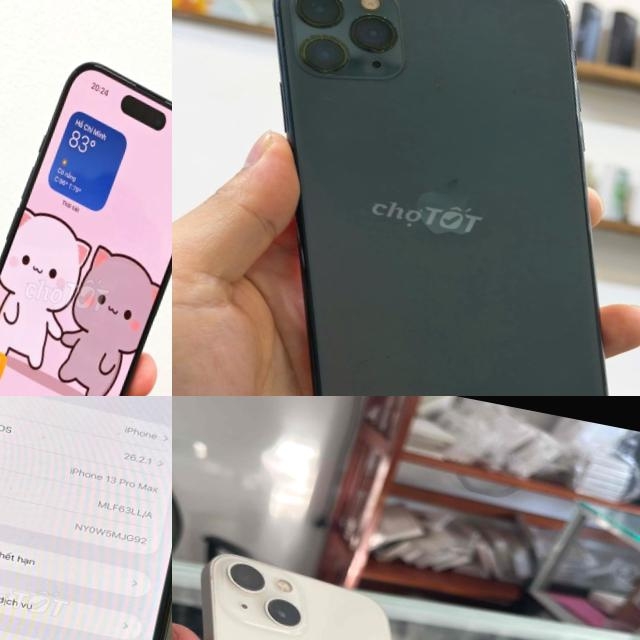scratch: (300, 27, 352, 52), (420, 73, 454, 105), (554, 66, 594, 92), (552, 0, 577, 33), (372, 35, 401, 59), (368, 8, 400, 26), (288, 46, 316, 66), (310, 0, 352, 11)
